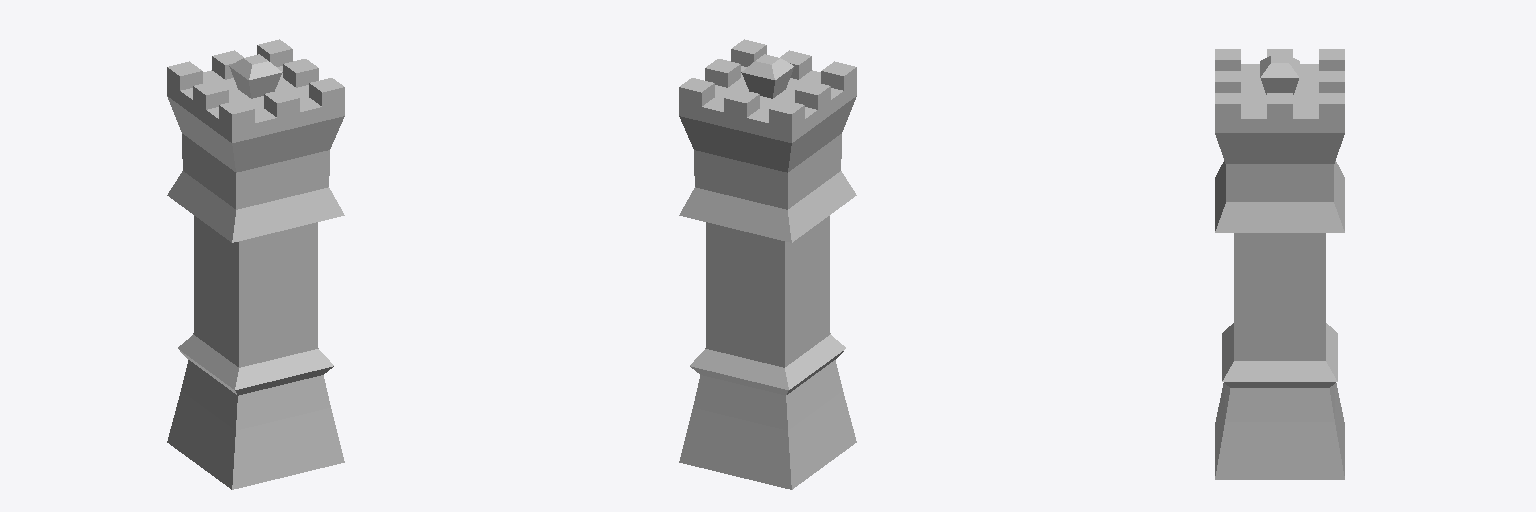
File: Queen.obj
3 views of the same model, side by side, from view 1: azimuth 30°, elevation 25°; view 2: azimuth 150°, elevation 25°; view 3: azimuth 270°, elevation 25° (orthographic).
Visible parts, largest first — view 1: Queen; view 2: Queen; view 3: Queen.
Part boxes in pixels (left/top/right/bottom): Queen: left=167, top=39, right=344, bottom=489; Queen: left=679, top=39, right=856, bottom=489; Queen: left=1215, top=49, right=1344, bottom=479.
Size of the model in its own units: 2 by 6.66 by 2.